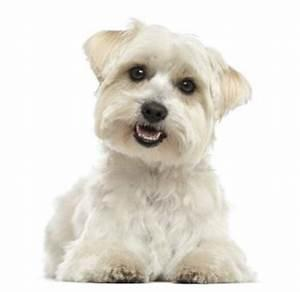dog: (41, 16, 258, 284)
